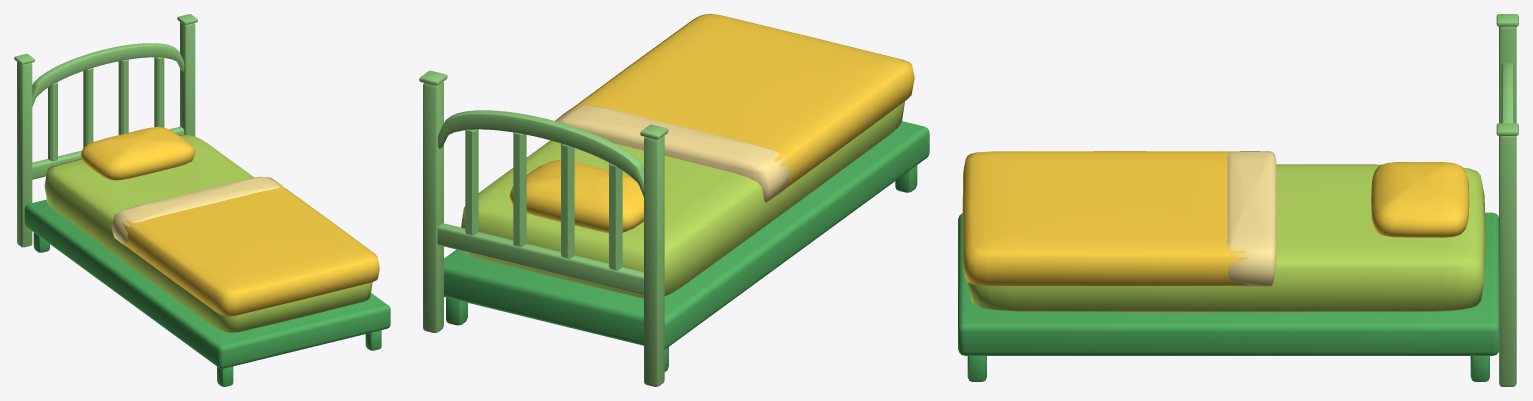
File: cama_solteiro_grade_arco_verde.glb
3 views of the same model, side by side, from view 1: azimuth 30°, elevation 25°; view 2: azimuth 150°, elevation 25°; view 3: azimuth 270°, elevation 25° (orthographic). The views are drawn at different scales.
Visible parts, largest first — view 1: cama_solteiro_grade_arco_verde; view 2: cama_solteiro_grade_arco_verde; view 3: cama_solteiro_grade_arco_verde.
Boxes of the visible parts, x1,y1,x2,y2 form: cama_solteiro_grade_arco_verde: (14, 14, 390, 386); cama_solteiro_grade_arco_verde: (419, 14, 929, 386); cama_solteiro_grade_arco_verde: (958, 14, 1518, 386).
Bounding box in the file's own units: 1.03 × 1.04 × 2.05.
1 material, 1 textured.
